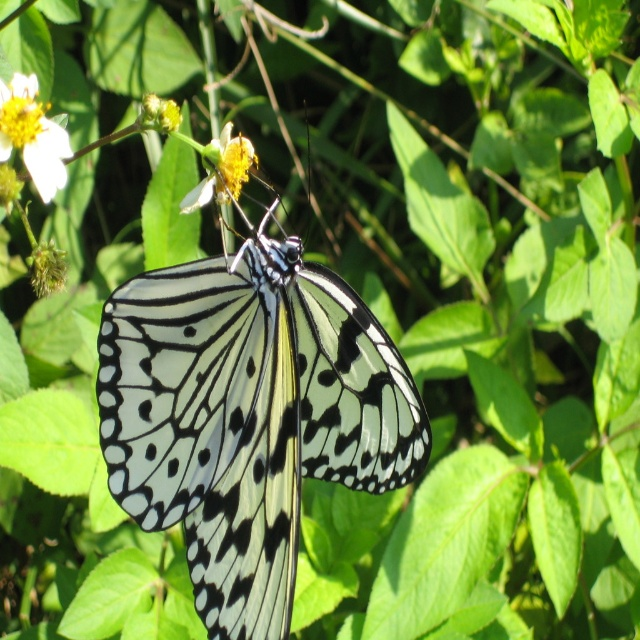Butterfly: (95, 97, 432, 640)
